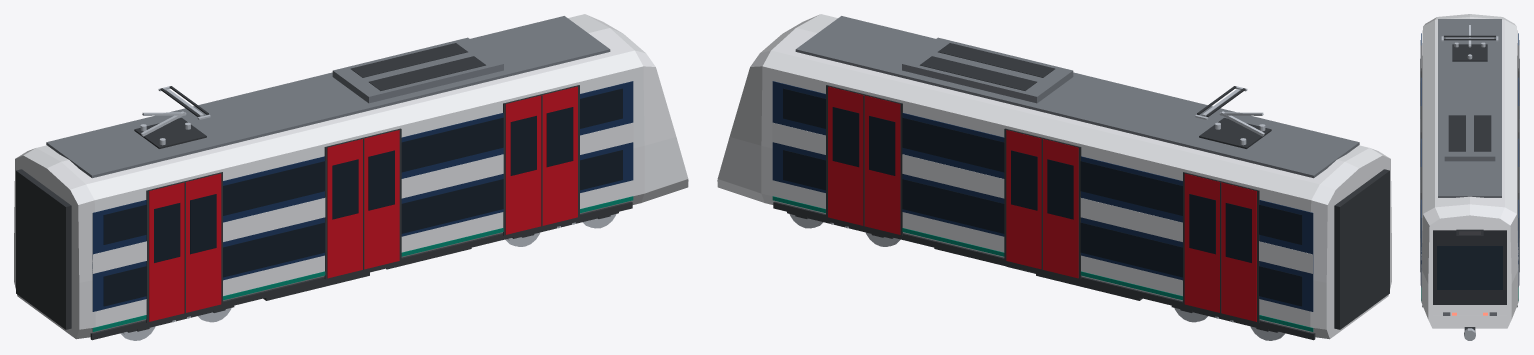
The model's file is rer_a_mi09__tail.glb.
3 renders of one model, left to right at view 1: azimuth 30°, elevation 25°; view 2: azimuth 150°, elevation 25°; view 3: azimuth 270°, elevation 25°, orthographic. The views are drawn at different scales.
Parts seen in each view (by area): view 1: rer_a_mi09_tail; view 2: rer_a_mi09_tail; view 3: rer_a_mi09_tail.
Boxes of the visible parts, x1=… form: rer_a_mi09_tail: x1=14, y1=14, x2=688, y2=340; rer_a_mi09_tail: x1=717, y1=14, x2=1391, y2=340; rer_a_mi09_tail: x1=1420, y1=14, x2=1519, y2=340.
Bounding box in the file's own units: 15.37 × 4.88 × 2.97.
